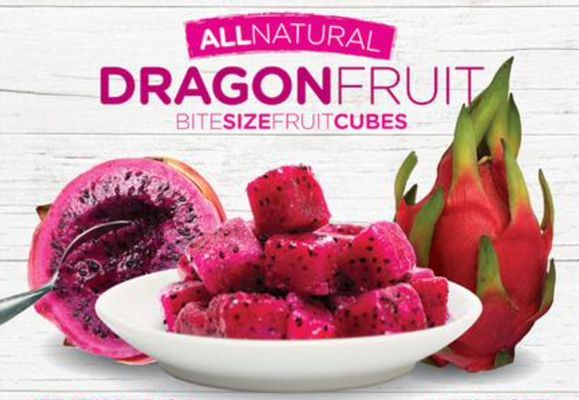sushi: (96, 265, 475, 393), (27, 156, 229, 363)
